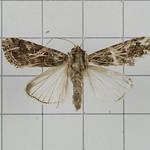Spodoptera litura: (1, 36, 150, 113)
